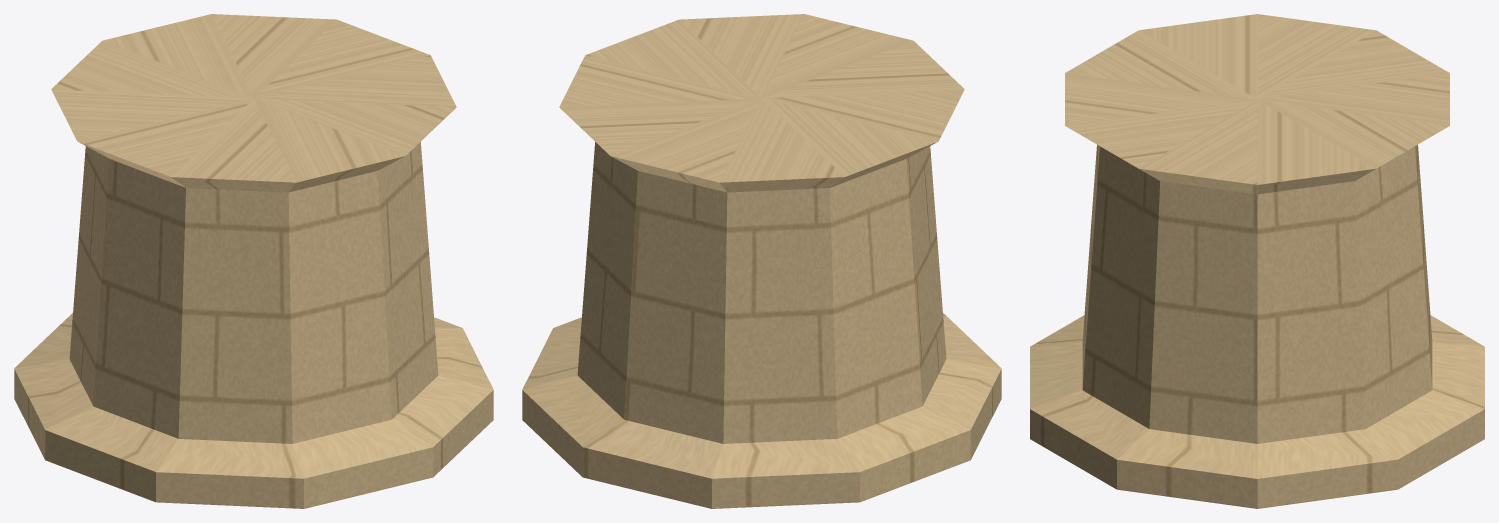
File: pedestal.obj
The picture shows the model from 3 angles, left to right: view 1: azimuth 30°, elevation 25°; view 2: azimuth 150°, elevation 25°; view 3: azimuth 270°, elevation 25°; orthographic projection.
Size of the model in its own units: 2.6 by 1.85 by 2.47.
Materials: 1 (1 with a texture image).
